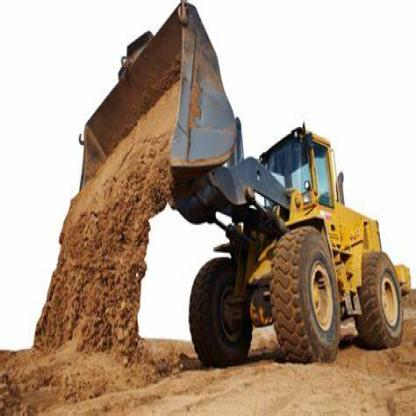bull_dozer/loader/grader: (63, 0, 412, 378)
